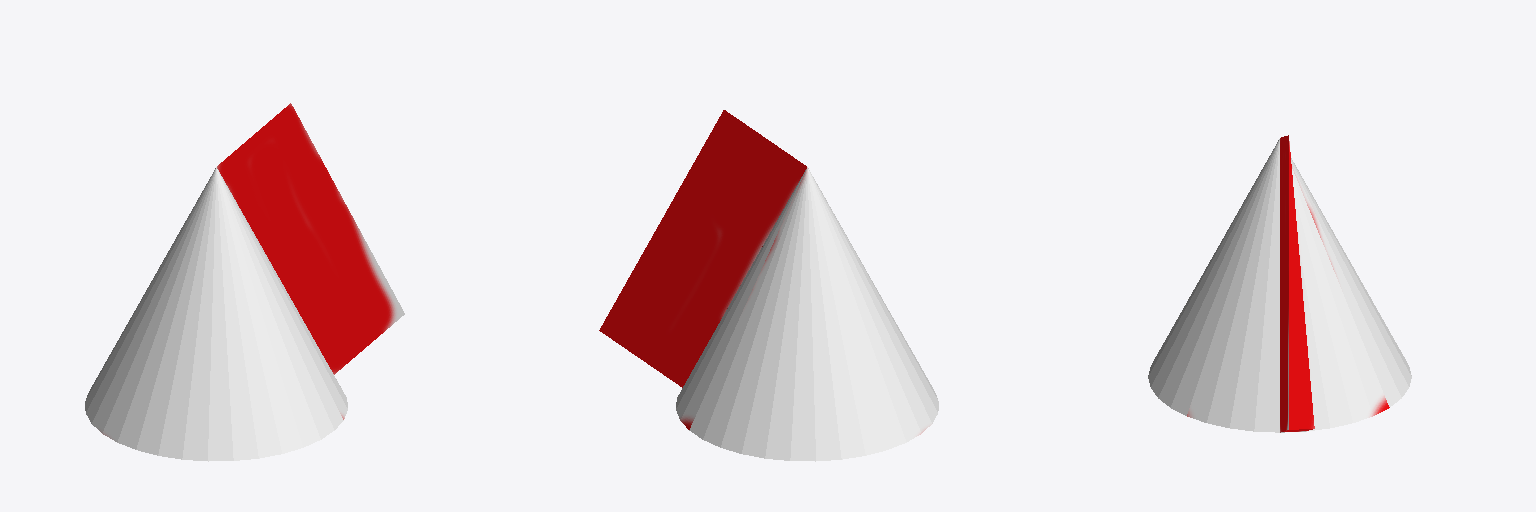
3 renders of one model, left to right at view 1: azimuth 30°, elevation 25°; view 2: azimuth 150°, elevation 25°; view 3: azimuth 270°, elevation 25°, orthographic.
Parts seen in each view (by area): view 1: 円錐; view 2: 円錐; view 3: 円錐.
Boxes of the visible parts, <box> form: 円錐: <box>85,103,404,461</box>; 円錐: <box>599,110,938,461</box>; 円錐: <box>1148,135,1411,432</box>.
Size of the model in its own units: 2.69 by 2.35 by 2.
1 materials, 1 textured.